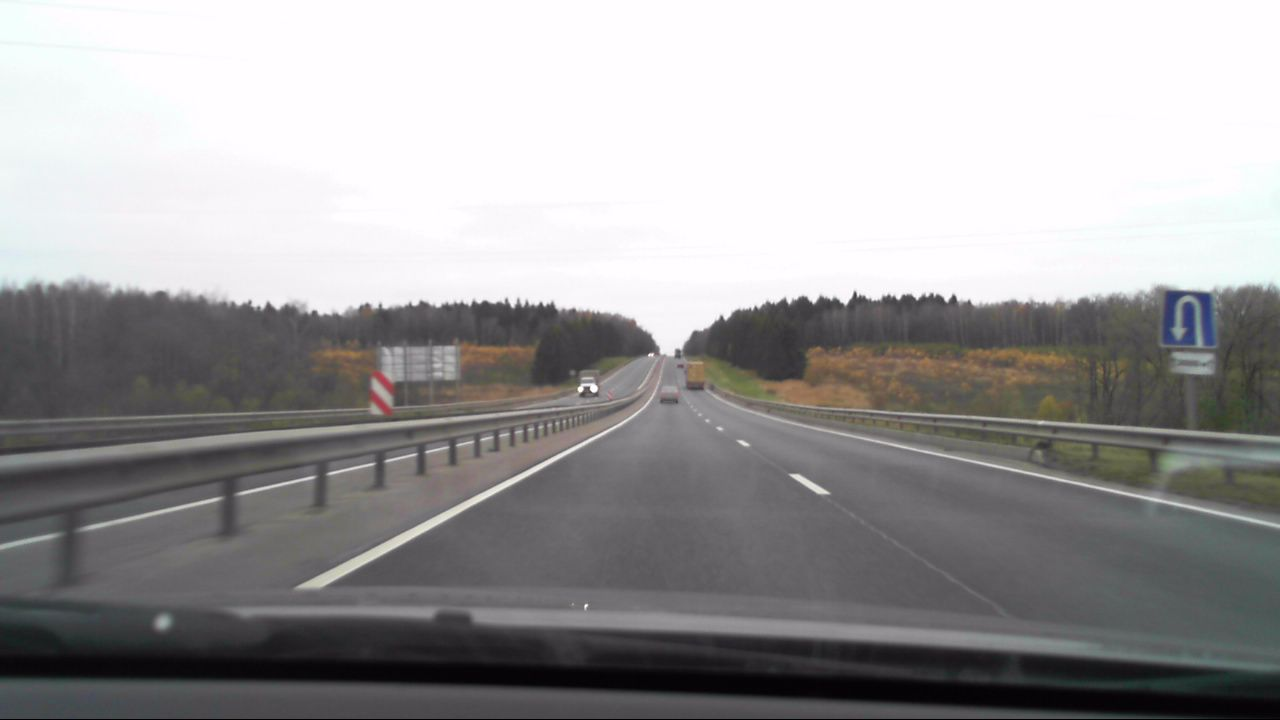U-turn: (1165, 290, 1215, 346)
